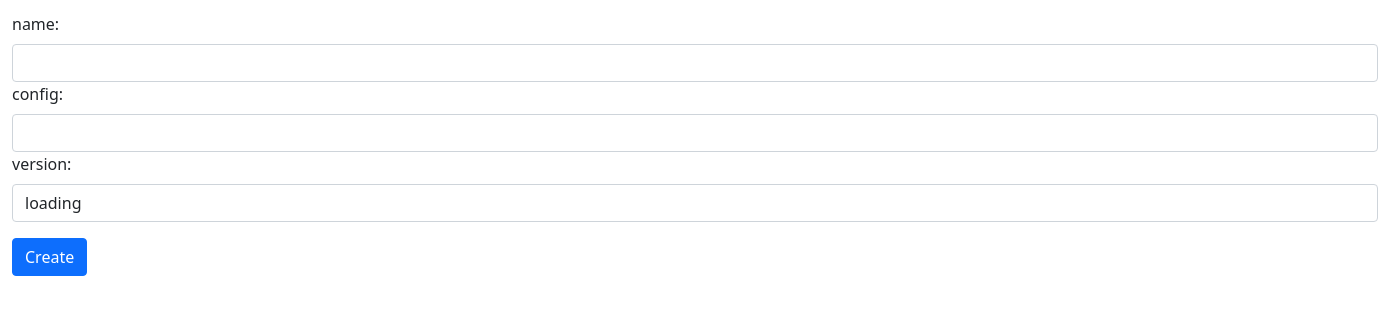
Test: AppInstanceAdd › submit instance with no name
Click the button with test id "instance-add-submit": [50, 257] box [12,238,87,276]
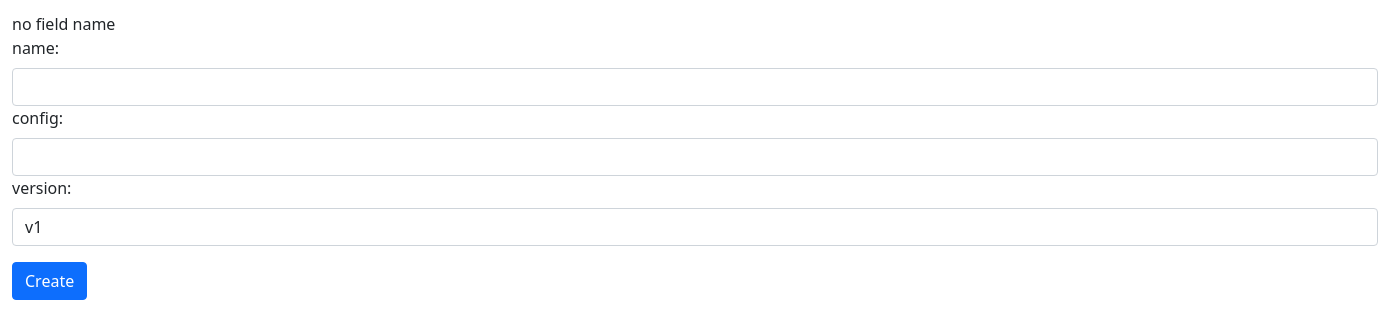
Expected: the text with test id "instance-add-message" reads "no field name", [12,13,115,35]
